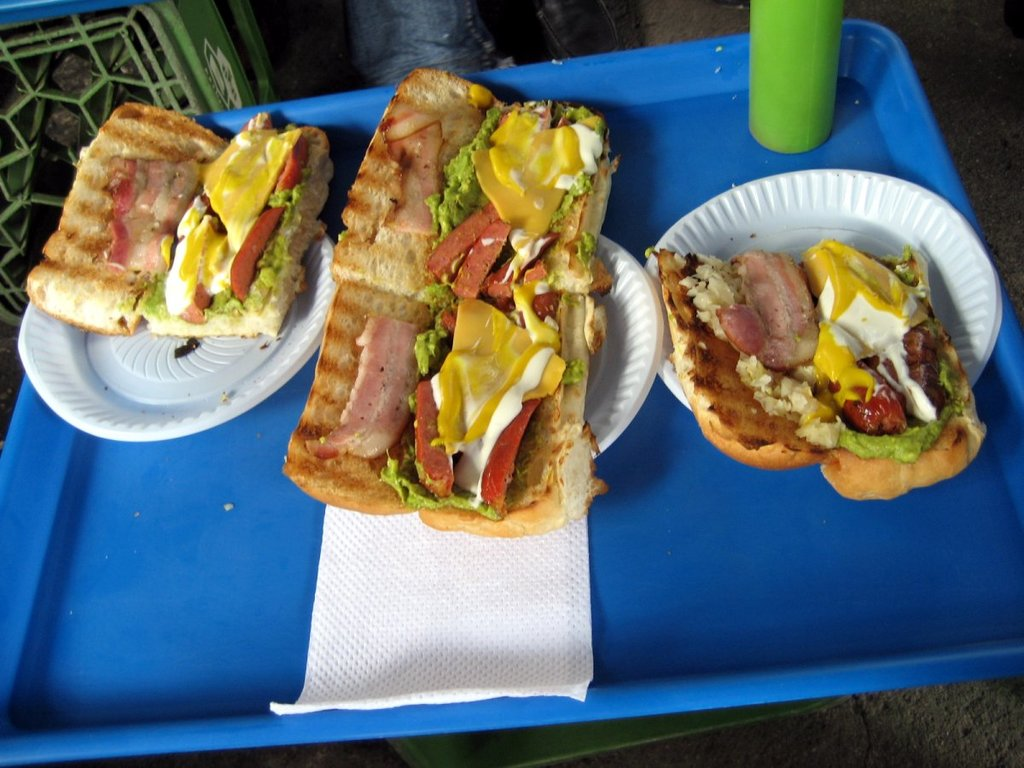hot_dog: (293, 67, 643, 550)
